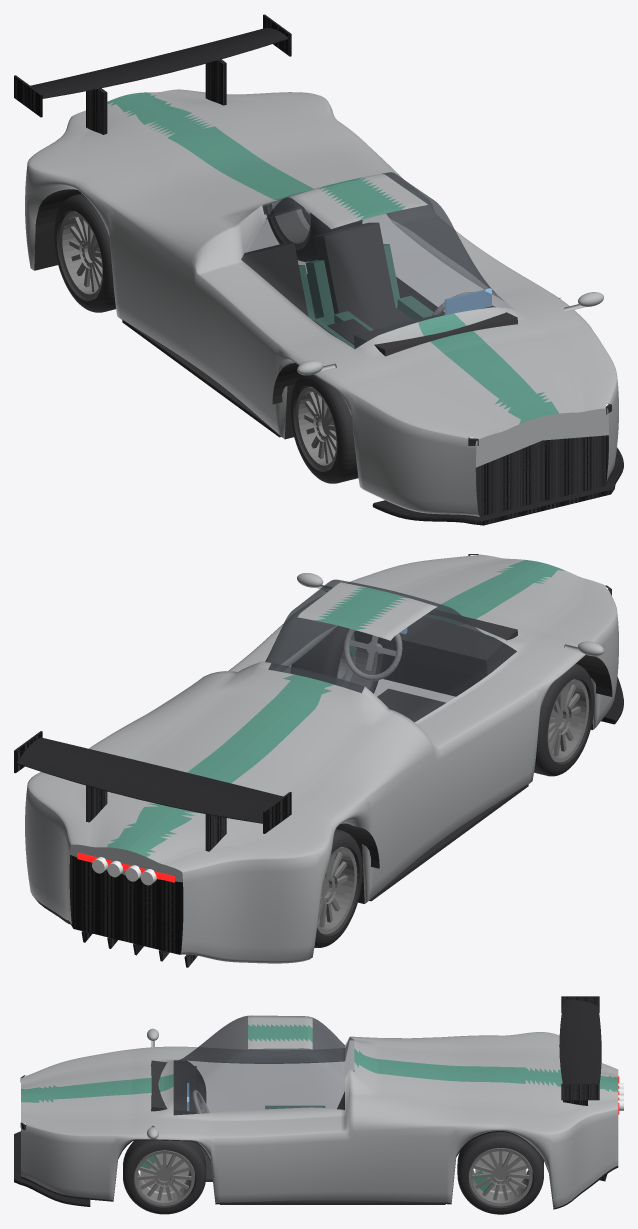
File: mclaren-senna.glb
3 renders of one model, top to bottom at view 1: azimuth 30°, elevation 25°; view 2: azimuth 150°, elevation 25°; view 3: azimuth 270°, elevation 25°, orthographic. The views are drawn at different scales.
Visible parts, largest first — view 1: Body_PrimaryPaint, Glass_Windows, Carbon_Exterior, Body_SecondaryPaint, Interior_Seats, WheelWells, Tire_FR, Interior_SeatBolsters, Rim_RR, Tire_RR, Rim_FR, Interior_Dashboard (+4 smaller); view 2: Body_PrimaryPaint, Carbon_Exterior, Glass_Windows, Body_SecondaryPaint, Interior_Dashboard, WheelWells, Rim_FR, Rim_RR, Tire_FR, Underbody, Tire_FL, Tire_RR (+4 smaller); view 3: Body_PrimaryPaint, Glass_Windows, Body_SecondaryPaint, Carbon_Exterior, Tire_RL, Tire_FL, Rim_RL, Rim_FL, Interior_Dashboard, WheelWells, Underbody, BrakeDisc_RL (+1 smaller).
Part boxes in pixels (box(x1,y1,x2,y2)): Body_PrimaryPaint: box(25, 89, 618, 516); Glass_Windows: box(241, 172, 513, 348); Carbon_Exterior: box(14, 14, 623, 525); Body_SecondaryPaint: box(107, 92, 559, 423); Interior_Seats: box(241, 222, 412, 329); WheelWells: box(37, 189, 560, 437); Tire_FR: box(290, 374, 358, 483); Interior_SeatBolsters: box(298, 244, 433, 348); Rim_RR: box(59, 211, 102, 298); Tire_RR: box(54, 193, 115, 312); Rim_FR: box(296, 386, 337, 469); Interior_Dashboard: box(354, 305, 517, 356); Body_PrimaryPaint: box(25, 554, 618, 963); Carbon_Exterior: box(14, 677, 623, 967); Glass_Windows: box(265, 579, 516, 722); Body_SecondaryPaint: box(107, 560, 564, 856); Interior_Dashboard: box(354, 609, 517, 678); WheelWells: box(326, 591, 612, 901); Rim_FR: box(547, 679, 588, 762); Rim_RR: box(317, 846, 357, 934); Tire_FR: box(534, 663, 594, 776); Underbody: box(34, 653, 592, 927); Tire_FL: box(291, 626, 382, 693); Tire_RR: box(314, 829, 362, 947); Body_PrimaryPaint: box(21, 1015, 618, 1208); Glass_Windows: box(173, 1015, 354, 1115); Body_SecondaryPaint: box(21, 1024, 618, 1102); Carbon_Exterior: box(14, 996, 607, 1206); Tire_RL: box(457, 1132, 543, 1214); Tire_FL: box(123, 1140, 206, 1214); Rim_RL: box(468, 1148, 532, 1206); Rim_FL: box(134, 1150, 194, 1205); Interior_Dashboard: box(151, 1060, 196, 1115); WheelWells: box(220, 1200, 445, 1204); Underbody: box(21, 1131, 618, 1209); BrakeDisc_RL: box(475, 1151, 526, 1193).
Bounding box in the file's own units: 2.01 × 1.22 × 4.84.
17 materials, 2 textured.
